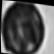correct: (0, 0, 49, 54)
